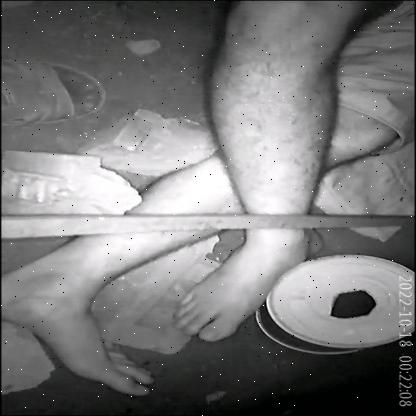leg: (161, 0, 356, 350), (0, 151, 251, 405)
